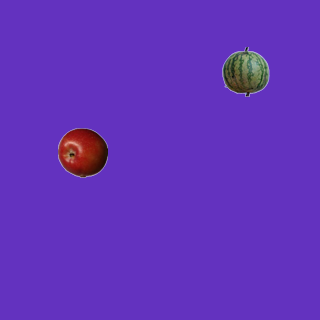Apple Braeburn: (57, 127, 107, 177)
Watermelon: (220, 46, 270, 96)
